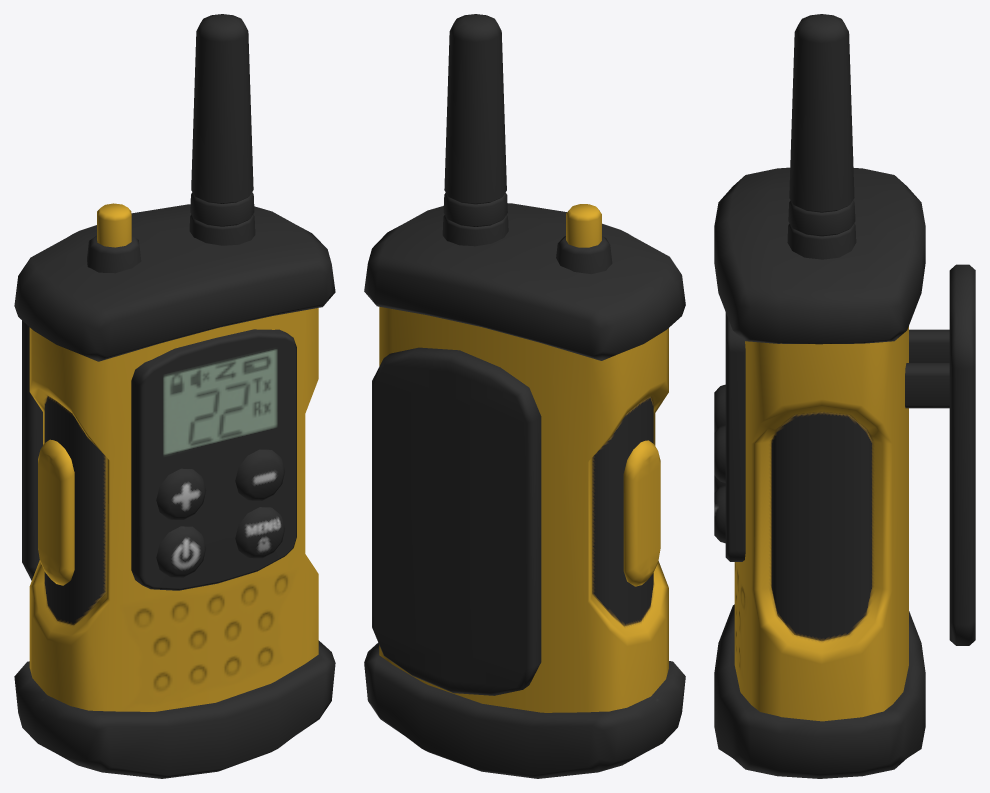
The model's file is walkietalkie_yellow.fbx.
The picture shows the model from 3 angles, left to right: view 1: azimuth 30°, elevation 25°; view 2: azimuth 150°, elevation 25°; view 3: azimuth 270°, elevation 25°; orthographic projection. The views are drawn at different scales.
Parts seen in each view (by area): view 1: polySurface11.002; view 2: polySurface11.002; view 3: polySurface11.002.
Boxes of the visible parts, bbox=[...] form: polySurface11.002: bbox=[14, 14, 335, 778]; polySurface11.002: bbox=[364, 14, 685, 778]; polySurface11.002: bbox=[714, 14, 975, 778].
Size of the model in its own units: 0.4624 by 1.11 by 0.354.
